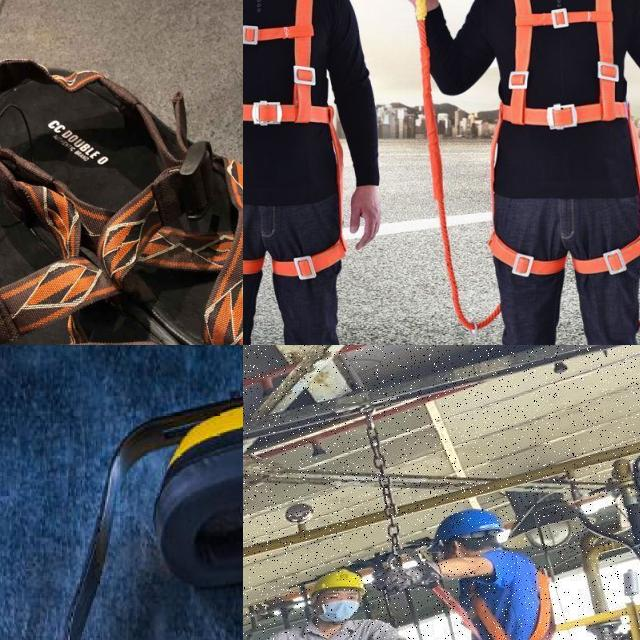Ear-protection: (85, 394, 243, 640)
Harness: (487, 0, 640, 276), (243, 0, 344, 279), (451, 550, 584, 640)
Sandals: (0, 23, 243, 345)
